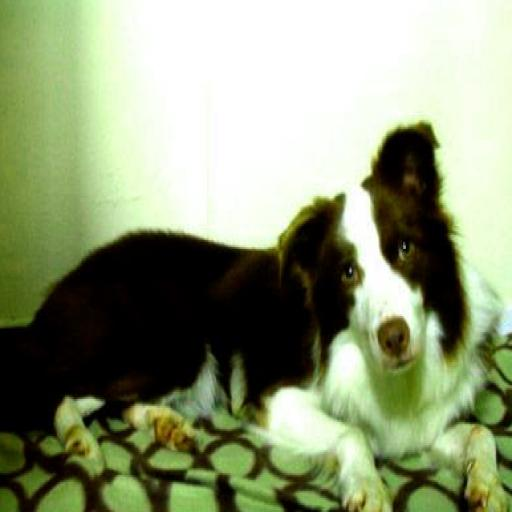dog_face: (274, 123, 475, 396)
